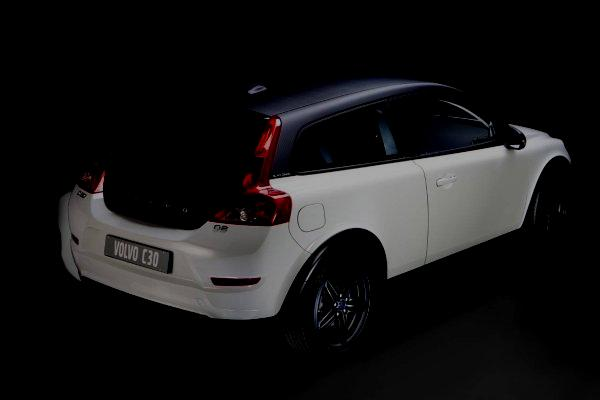volvo: (104, 186, 200, 223)
